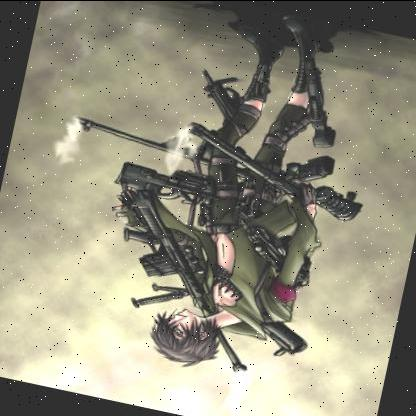rifle: (103, 195, 275, 385), (178, 120, 369, 230), (193, 69, 258, 144)
